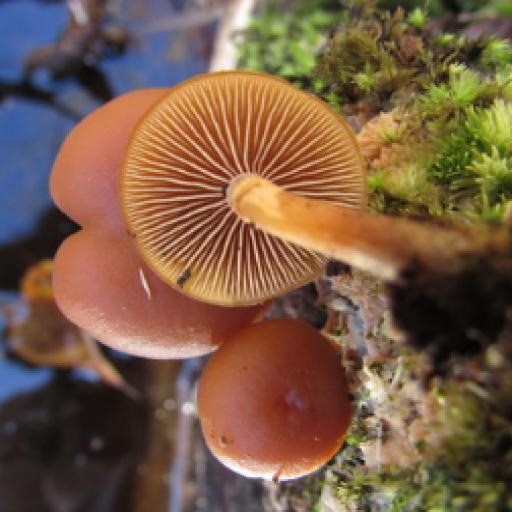Funeral Bell: (47, 73, 510, 480)
